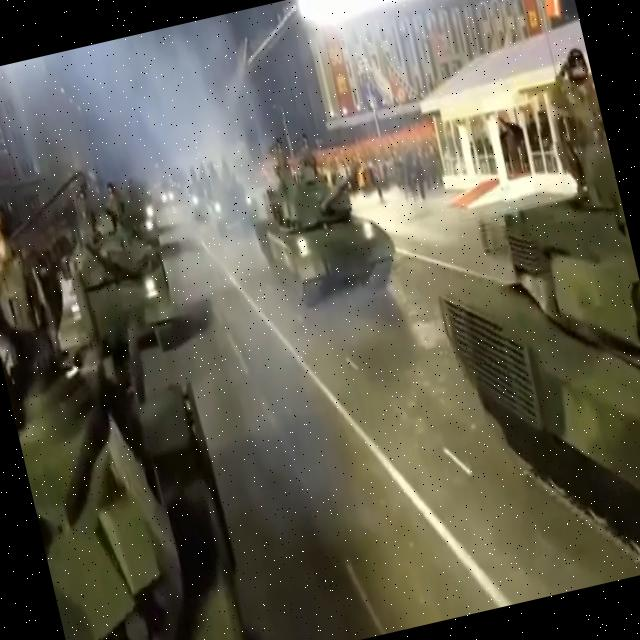north tank: (391, 50, 640, 605), (0, 178, 276, 640), (228, 110, 425, 340), (39, 162, 193, 372), (194, 152, 273, 255)
